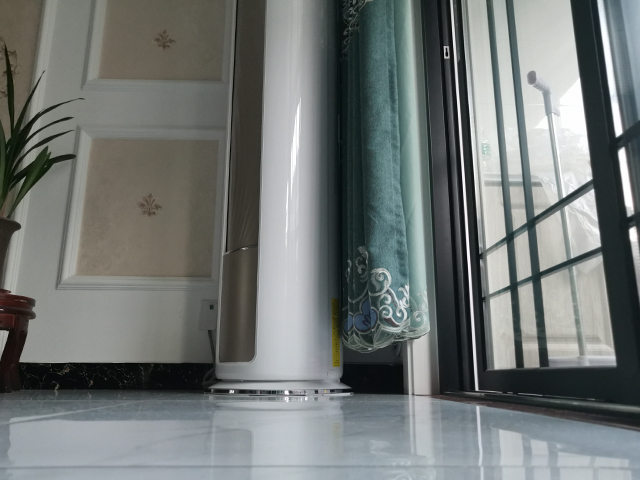curtain: (332, 1, 431, 354)
wire: (195, 328, 219, 390)
